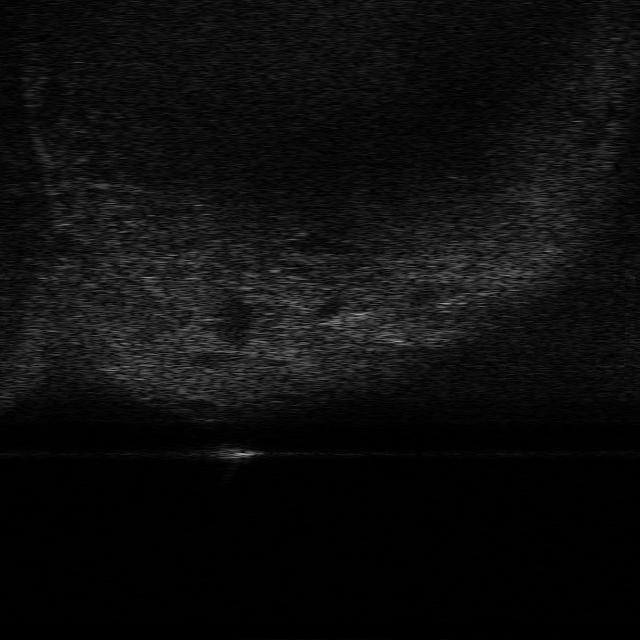cube: (194, 441, 265, 466)
